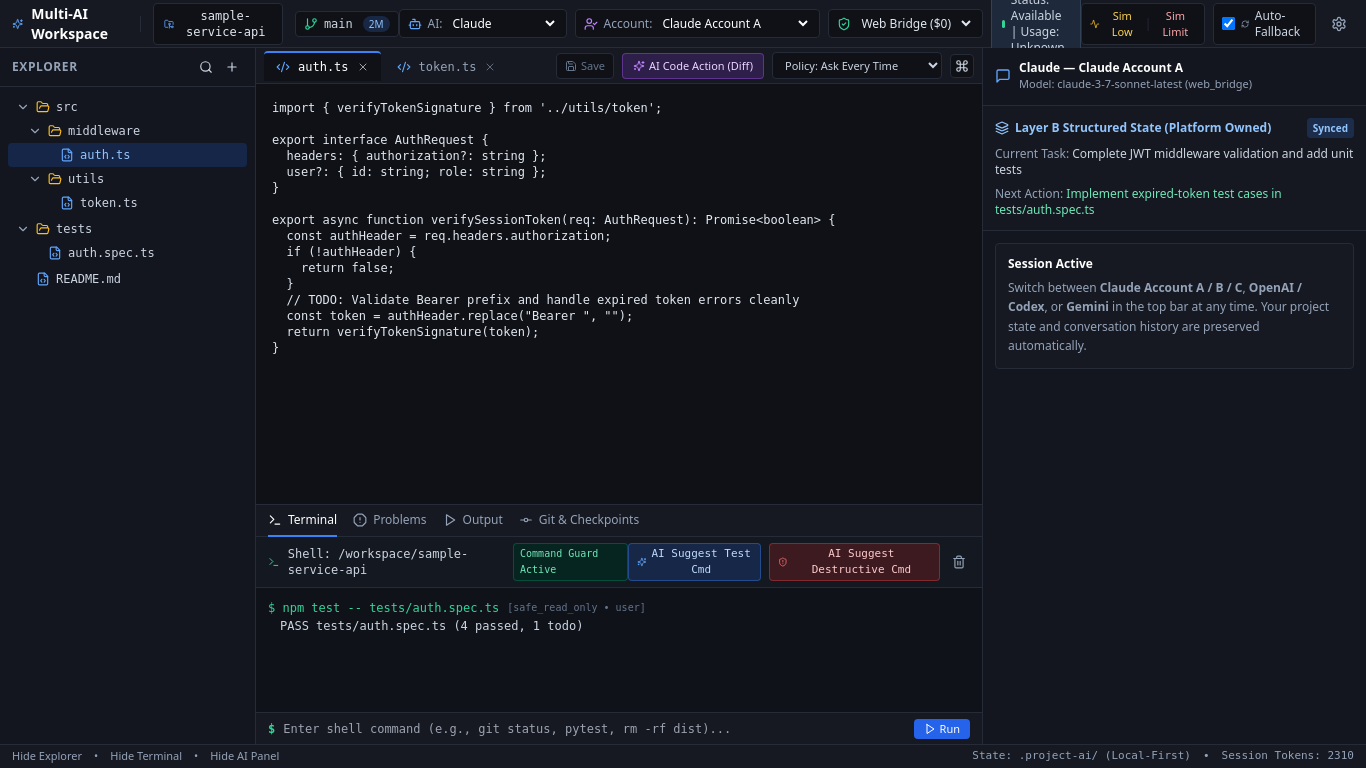
Phase 2: Project & Workspace Management (.project-ai/) › initializes a new project directory and preserves state when switching back
// Open modal and initialize a new project
Click the button with test id "open-project-switcher-btn" at (218, 24), box [153,2,283,44]
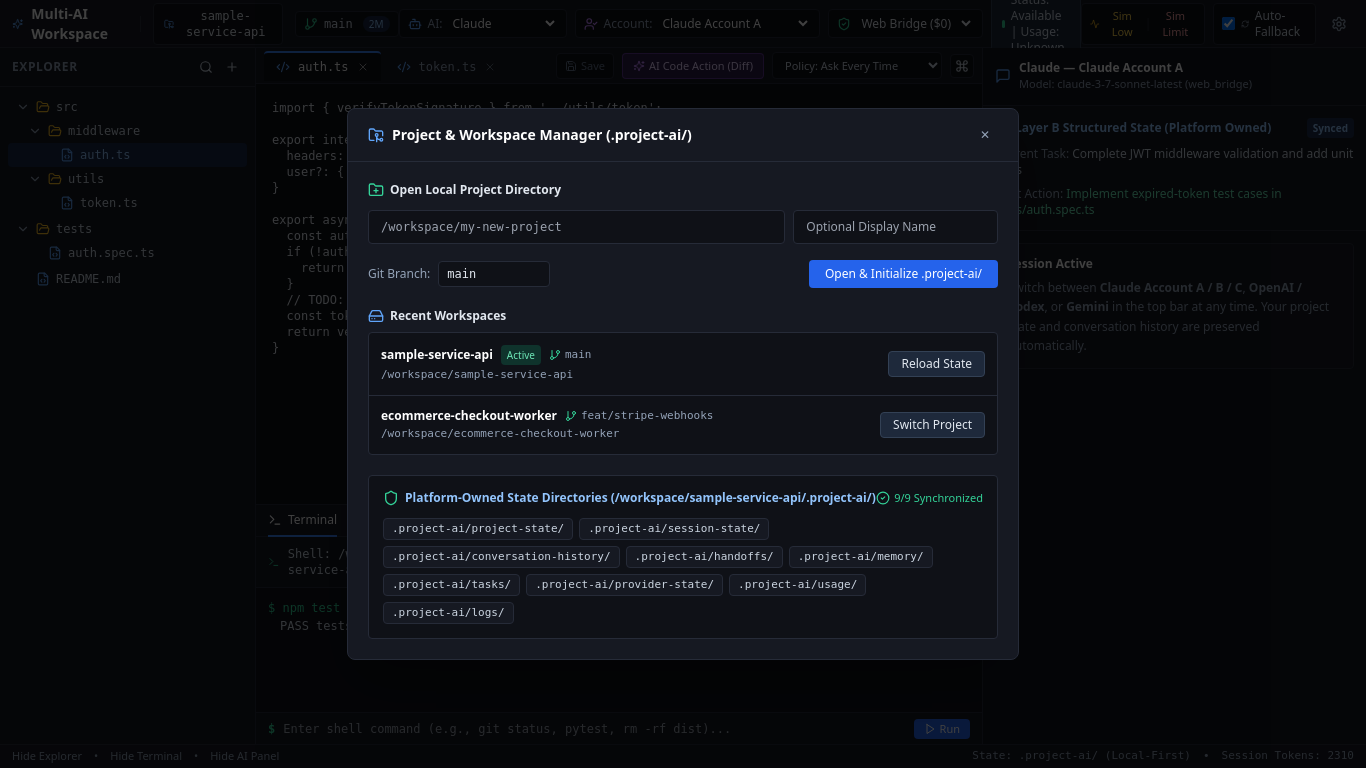
Type "/workspace/billing-microservice" into the field with test id "open-project-path-input" at (577, 227), box [368,210,785,244]
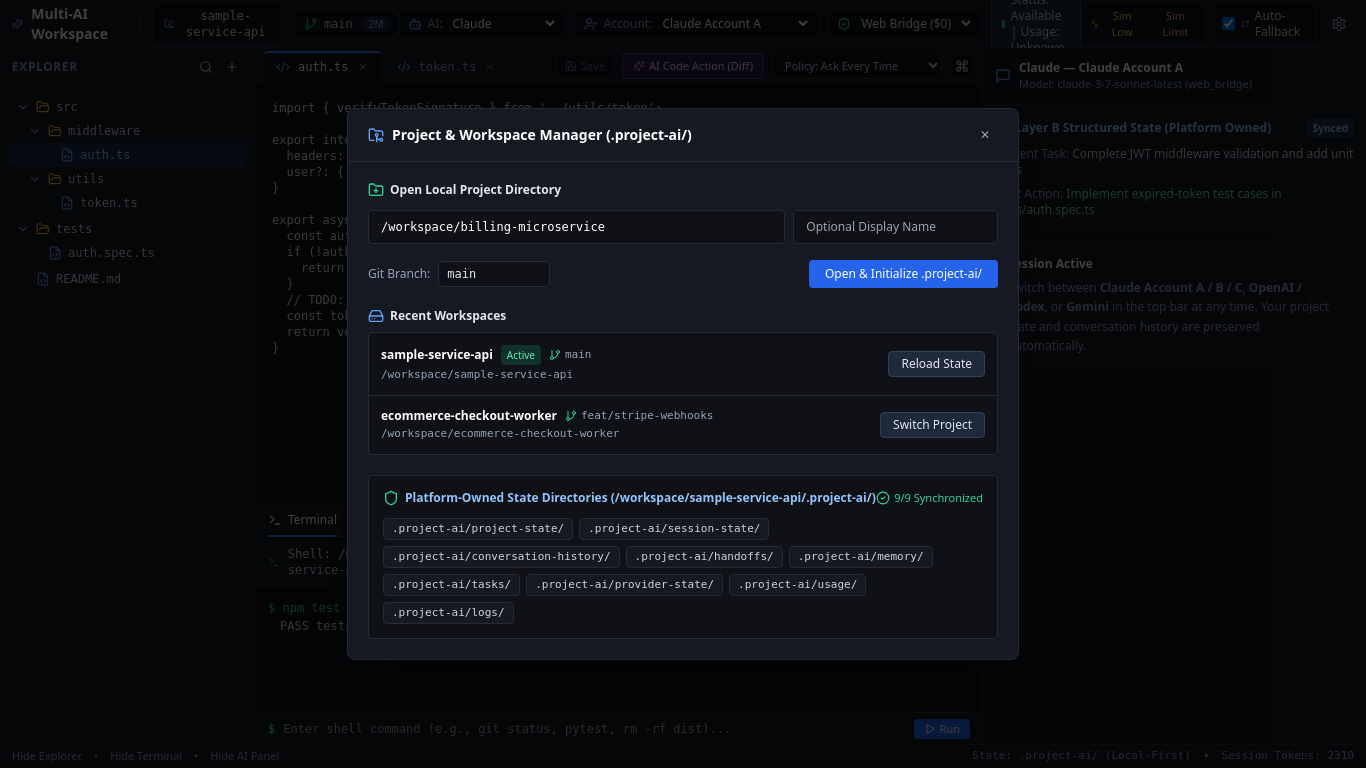
Type "billing-microservice" into the field with test id "open-project-name-input" at (896, 227), box [793,210,998,244]
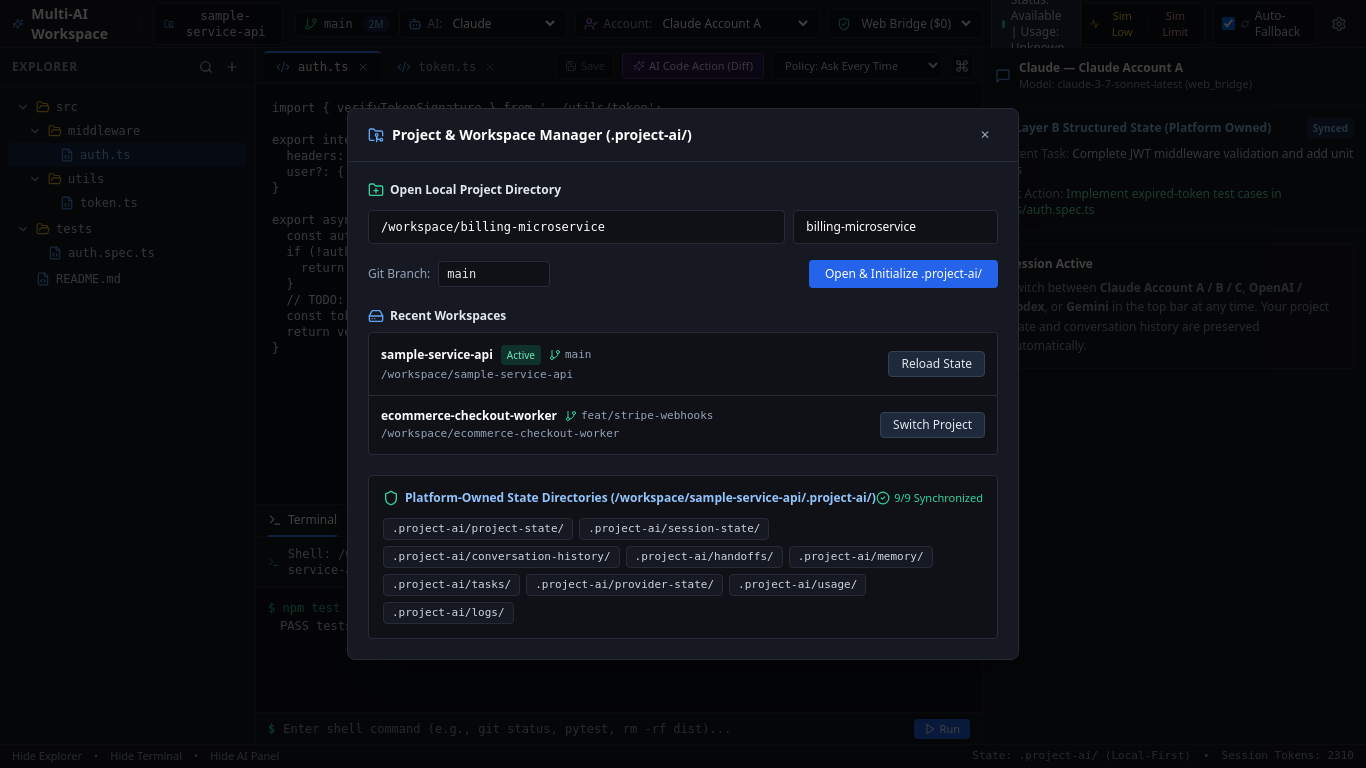
Click the button with test id "confirm-open-project-btn" at (903, 274), box [809,260,998,288]
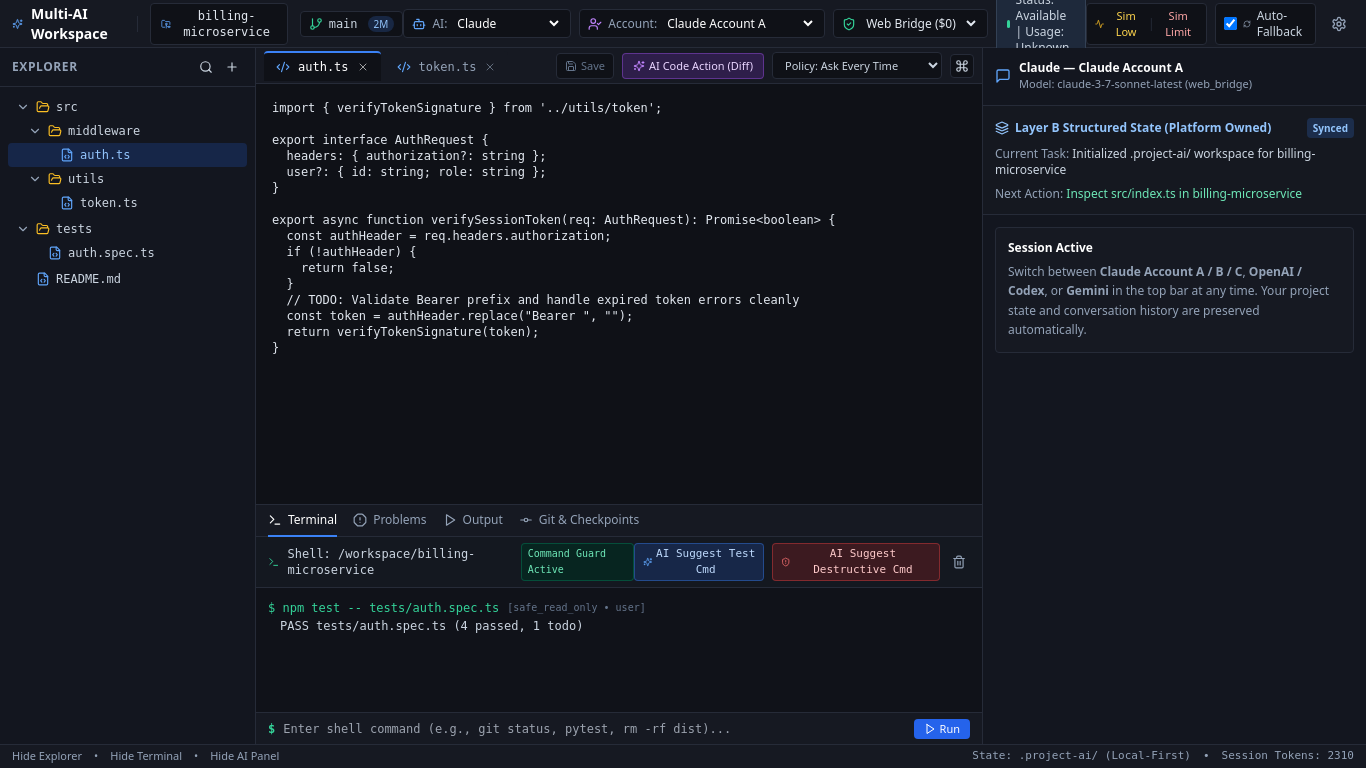
Expected: the text with test id "active-project-name" reads "billing-microservice", [183,8,270,38]
Expected: the text with test id "structured-current-task" reads "Initialized .project-ai/ workspace for billing-microservice", [995,144,1315,178]
// Switch back to sample-service-api and confirm its original Layer B state was preserved
Click the button with test id "open-project-switcher-btn" at (219, 24), box [150,2,288,44]
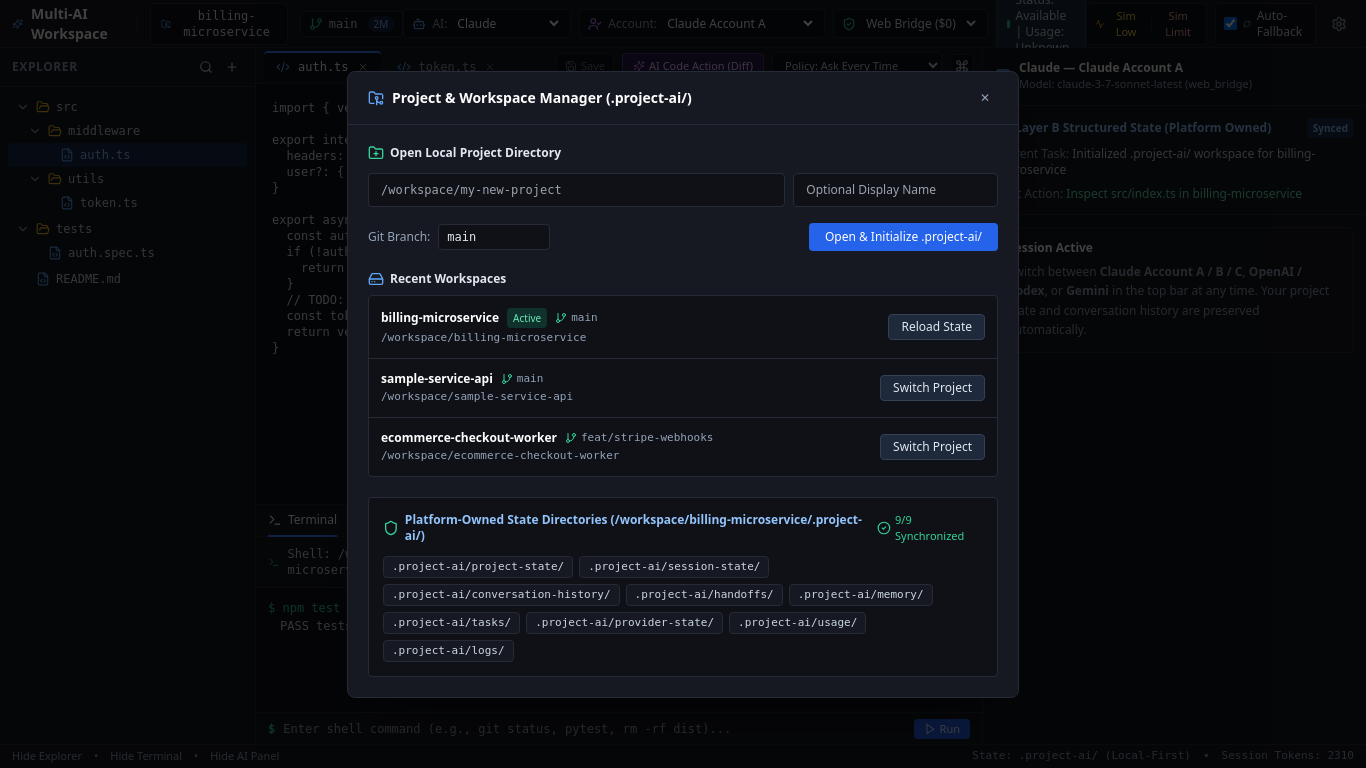
Click the button with test id "switch-recent-sample-service-api" at (933, 388), box [880,374,985,400]
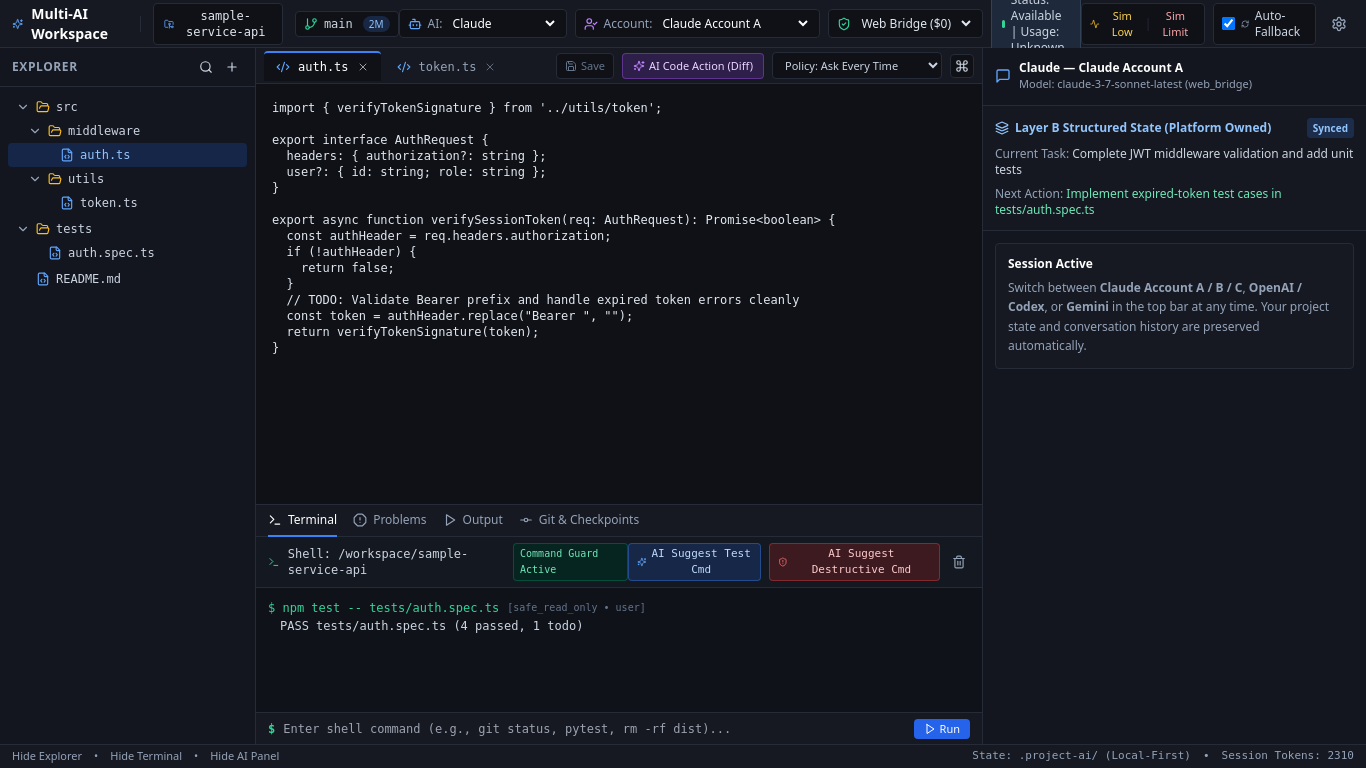
Expected: the text with test id "active-project-name" reads "sample-service-api", [186,8,266,38]
Expected: the text with test id "structured-current-task" reads "Complete JWT middleware validation and add unit tests", [995,144,1353,178]
